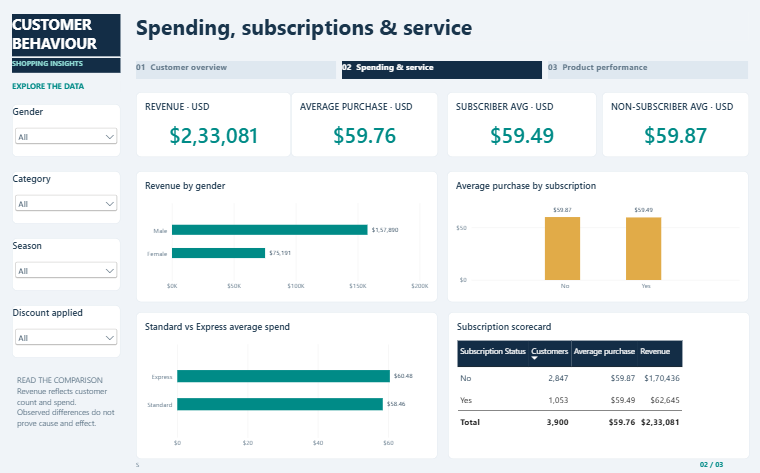

What the dashboard file says about the page in this screenshot:
{"tool":"powerbi","page":{"name":"02  Spending & service","canvas":[1440,900],"ordinal":1},"visuals":[{"type":"textbox","box":[24,28,205,80],"z":1},{"type":"textbox","box":[24,112,205,28],"z":2},{"type":"textbox","box":[24,155,205,30],"z":3},{"type":"textbox","box":[258,25,1158,54],"z":4},{"type":"textbox","box":[258,79,1158,30],"z":5},{"type":"textbox","box":[258,118,378,34],"z":6},{"type":"textbox","box":[648,118,378,34],"z":7},{"type":"textbox","box":[1038,118,378,34],"z":8},{"type":"textbox","box":[258,870,1080,22],"z":9},{"type":"textbox","box":[1325,870,90,22],"z":10},{"type":"slicer","title":"Gender","fields":{"Values":["{\"Column\":{\"Expression\":{\"SourceRef\":{\"Entity\":\"customers\"}},\"Property\":\"gender\"}}"]},"box":[24,198,205,100],"z":11},{"type":"slicer","title":"Category","fields":{"Values":["{\"Column\":{\"Expression\":{\"SourceRef\":{\"Entity\":\"customers\"}},\"Property\":\"category\"}}"]},"box":[24,325,205,100],"z":12},{"type":"slicer","title":"Season","fields":{"Values":["{\"Column\":{\"Expression\":{\"SourceRef\":{\"Entity\":\"customers\"}},\"Property\":\"season\"}}"]},"box":[24,452,205,100],"z":13},{"type":"slicer","title":"Discount applied","fields":{"Values":["{\"Column\":{\"Expression\":{\"SourceRef\":{\"Entity\":\"customers\"}},\"Property\":\"discount_applied\"}}"]},"box":[24,579,205,100],"z":14},{"type":"textbox","box":[34,711,185,145],"z":15},{"type":"card","title":"REVENUE · USD","fields":{"Values":["{\"Aggregation\":{\"Expression\":{\"Column\":{\"Expression\":{\"SourceRef\":{\"Entity\":\"customers\"}},\"Property\":\"purchase_amount\"}}"]},"box":[258.9,175.7,292.9,122.8],"z":16},{"type":"card","title":"AVERAGE PURCHASE · USD","fields":{"Values":["{\"Measure\":{\"Expression\":{\"SourceRef\":{\"Entity\":\"customers\"}},\"Property\":\"Average Purchase Amount\"}}"]},"box":[551.8,175.7,277.8,122.8],"z":17},{"type":"card","title":"SUBSCRIBER AVG · USD","fields":{"Values":["{\"Measure\":{\"Expression\":{\"SourceRef\":{\"Entity\":\"customers\"}},\"Property\":\"Average Purchase Amount\"}}"]},"box":[846.6,175.7,283.5,122.8],"z":18},{"type":"card","title":"NON-SUBSCRIBER AVG · USD","fields":{"Values":["{\"Measure\":{\"Expression\":{\"SourceRef\":{\"Entity\":\"customers\"}},\"Property\":\"Average Purchase Amount\"}}"]},"box":[1139.5,175.7,277.8,122.8],"z":19},{"type":"clusteredBarChart","title":"Revenue by gender","fields":{"Category":["{\"Column\":{\"Expression\":{\"SourceRef\":{\"Entity\":\"customers\"}},\"Property\":\"gender\"}}"],"Y":["{\"Aggregation\":{\"Expression\":{\"Column\":{\"Expression\":{\"SourceRef\":{\"Entity\":\"customers\"}},\"Property\":\"purchase_amount\"}}"]},"box":[258.9,325,570,248],"z":20},{"type":"clusteredColumnChart","title":"Average purchase by subscription","fields":{"Category":["{\"Column\":{\"Expression\":{\"SourceRef\":{\"Entity\":\"customers\"}},\"Property\":\"subscription_status\"}}"],"Y":["{\"Measure\":{\"Expression\":{\"SourceRef\":{\"Entity\":\"customers\"}},\"Property\":\"Average Purchase Amount\"}}"]},"box":[846.6,325,570,248],"z":21},{"type":"clusteredBarChart","title":"Standard vs Express average spend","fields":{"Category":["{\"Column\":{\"Expression\":{\"SourceRef\":{\"Entity\":\"customers\"}},\"Property\":\"shipping_type\"}}"],"Y":["{\"Measure\":{\"Expression\":{\"SourceRef\":{\"Entity\":\"customers\"}},\"Property\":\"Average Purchase Amount\"}}"]},"box":[258.9,591.5,570,278],"z":22},{"type":"tableEx","title":"Subscription scorecard","fields":{"Values":["{\"Column\":{\"Expression\":{\"SourceRef\":{\"Entity\":\"customers\"}},\"Property\":\"subscription_status\"}}","{\"Measure\":{\"Expression\":{\"SourceRef\":{\"Entity\":\"customers\"}},\"Property\":\"Number of Customers\"}}","{\"Measure\":{\"Expression\":{\"SourceRef\":{\"Entity\":\"customers\"}},\"Property\":\"Average Purchase Amount\"}}","{\"Aggregation\":{\"Expression\":{\"Column\":{\"Expression\":{\"SourceRef\":{\"Entity\":\"customers\"}},\"Property\":\"purchase_amount\"}}"]},"box":[848.5,591.5,570,278],"z":23}]}

Visuals, with their boxes in screenshot pixels (x1, y1, x2, y2), scaled from the page's 1440x900 canvas onto the 760x473 screenshot:
textbox: 13/15/121/57
textbox: 13/59/121/74
textbox: 13/81/121/97
textbox: 136/13/747/42
textbox: 136/42/747/57
textbox: 136/62/336/80
textbox: 342/62/542/80
textbox: 548/62/747/80
textbox: 136/457/706/469
textbox: 699/457/747/469
"Gender" slicer: 13/104/121/157
"Category" slicer: 13/171/121/223
"Season" slicer: 13/238/121/290
"Discount applied" slicer: 13/304/121/357
textbox: 18/374/116/450
"REVENUE · USD" card: 137/92/291/157
"AVERAGE PURCHASE · USD" card: 291/92/438/157
"SUBSCRIBER AVG · USD" card: 447/92/596/157
"NON-SUBSCRIBER AVG · USD" card: 601/92/748/157
"Revenue by gender" clusteredBarChart: 137/171/437/301
"Average purchase by subscription" clusteredColumnChart: 447/171/748/301
"Standard vs Express average spend" clusteredBarChart: 137/311/437/457
"Subscription scorecard" tableEx: 448/311/749/457
